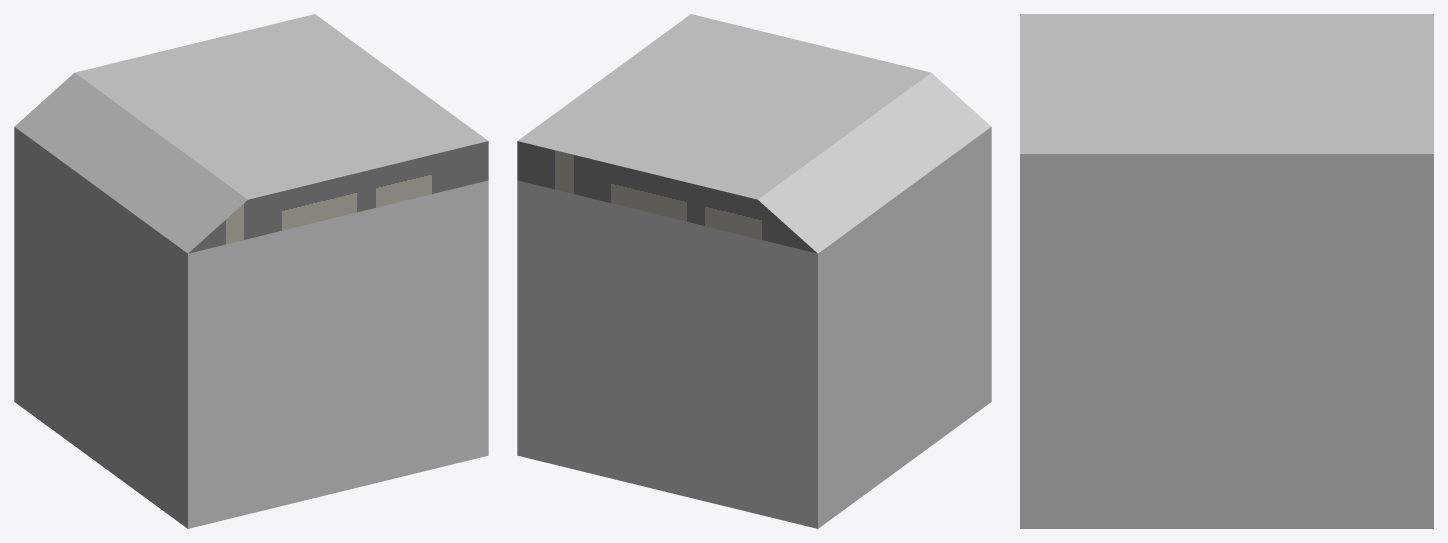
File: slope62_5_shave8_base14.obj
The picture shows the model from 3 angles, left to right: view 1: azimuth 30°, elevation 25°; view 2: azimuth 150°, elevation 25°; view 3: azimuth 270°, elevation 25°; orthographic projection. The views are drawn at different scales.
Size of the model in its own units: 1 by 1 by 1.
